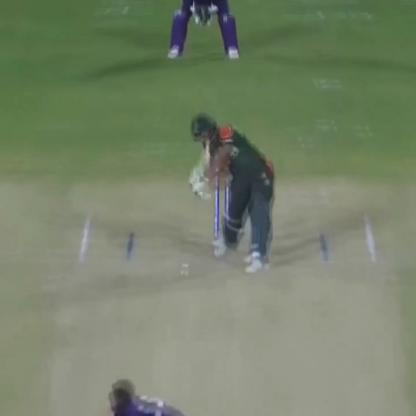ball: (176, 263, 191, 280), (176, 260, 193, 268)
bat: (186, 119, 225, 196)
pitch: (45, 218, 400, 415)
